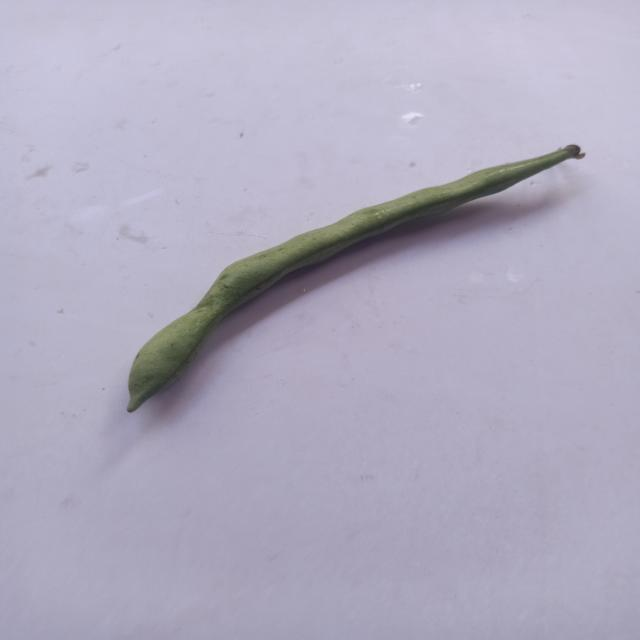Beans: (94, 134, 604, 434)
